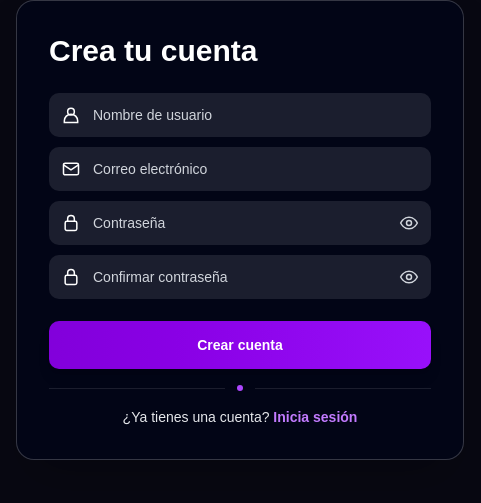
RegisterForm › should reject an empty password
Type "testuser" into the field labelled "Nombre de usuario" at (256, 115), box [93,93,419,137]
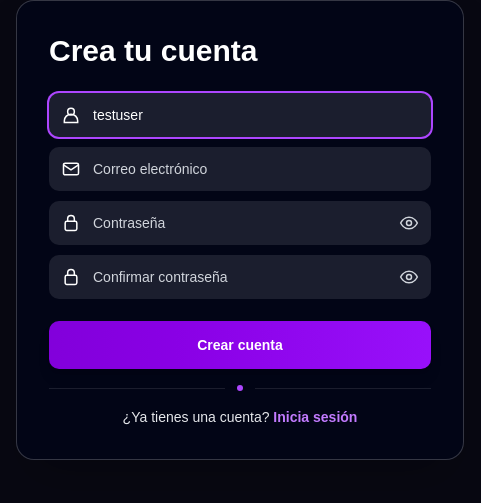
Type "usuario@gmail.com" into the field labelled "Correo electrónico" at (256, 169), box [93,147,419,191]
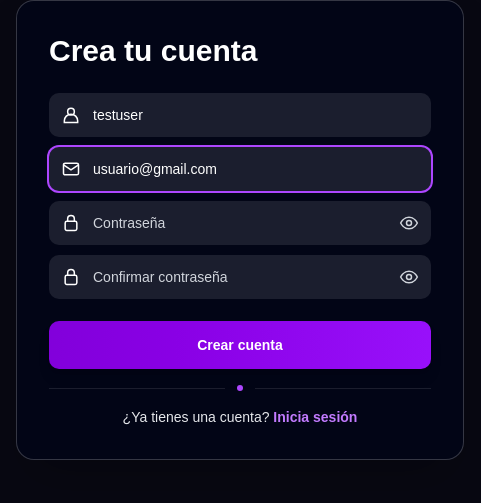
Click the button "Crear cuenta" at (240, 345), box [49,321,431,369]
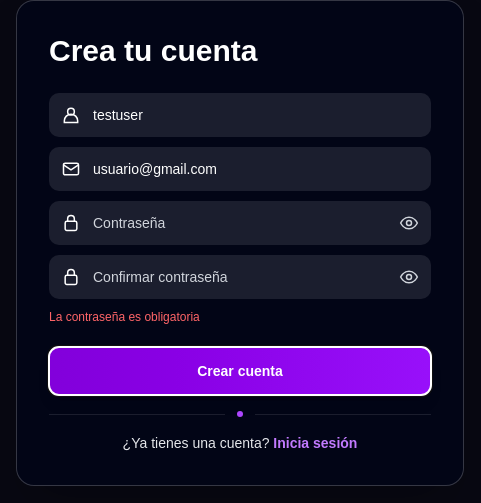
Expected: the message reads "La contraseña es obligatoria", [49,310,200,324]
